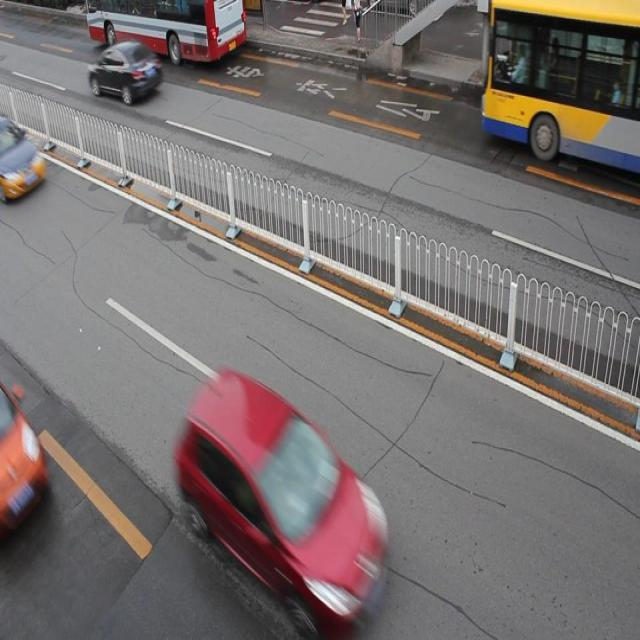car: (180, 368, 390, 616), (1, 386, 49, 528), (88, 38, 164, 105), (1, 118, 47, 202)
van: (481, 1, 640, 174), (88, 1, 247, 64)
